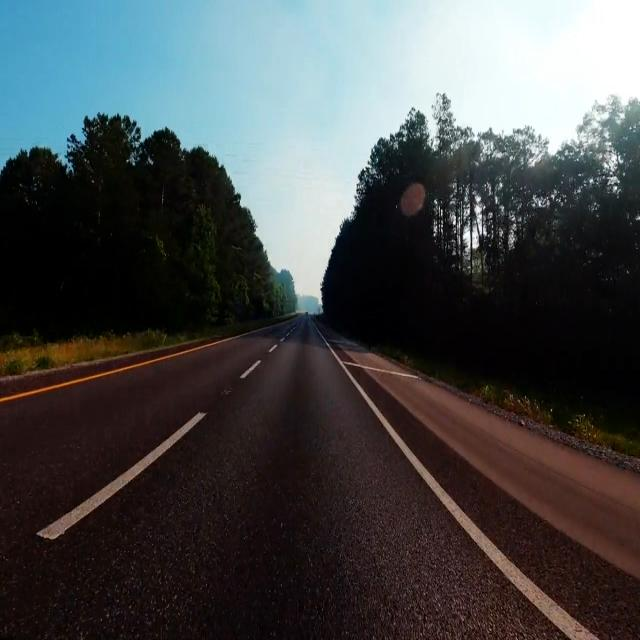road: (0, 318, 564, 637), (356, 371, 640, 637)
